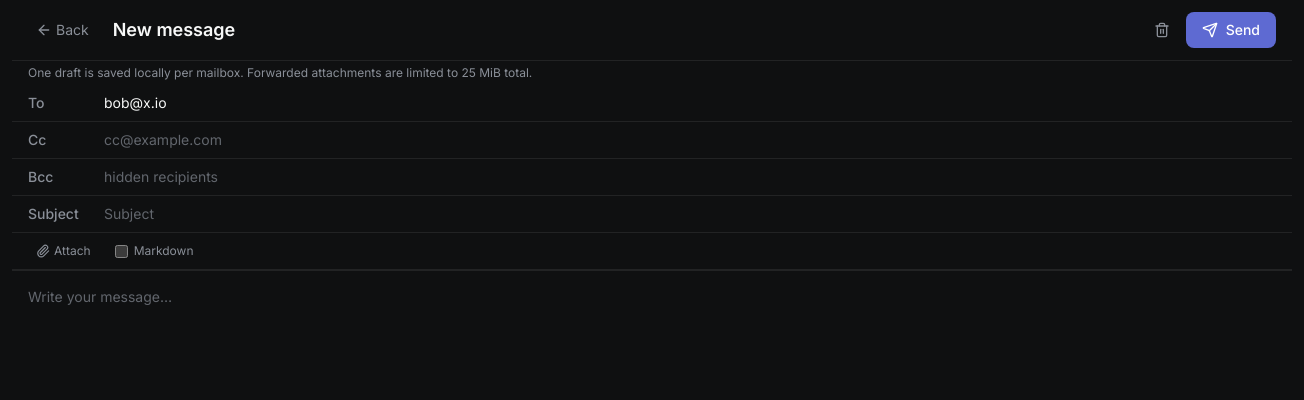
sending › server failure is shown, not 'Message sent'
The width and height of the screenshot is (1304, 400).
Click the button "Send". click: (1231, 30)
box: [1186, 12, 1276, 48]
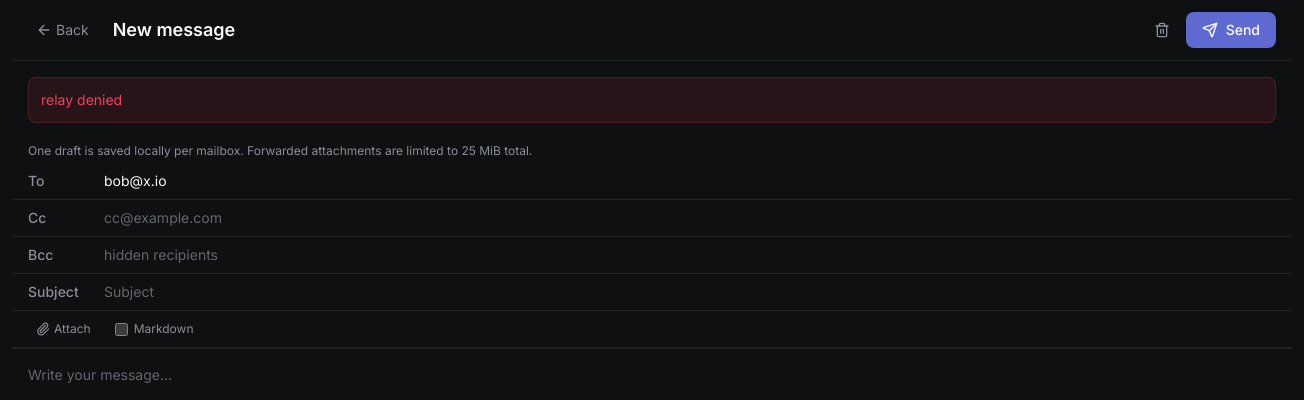
Expected: the text "relay denied" is shown, [28, 77, 1276, 123]
